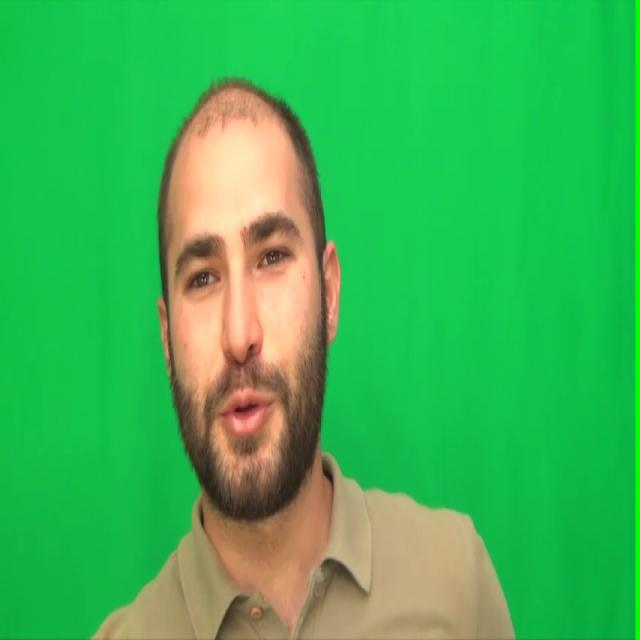Boredom: (169, 127, 320, 492)
